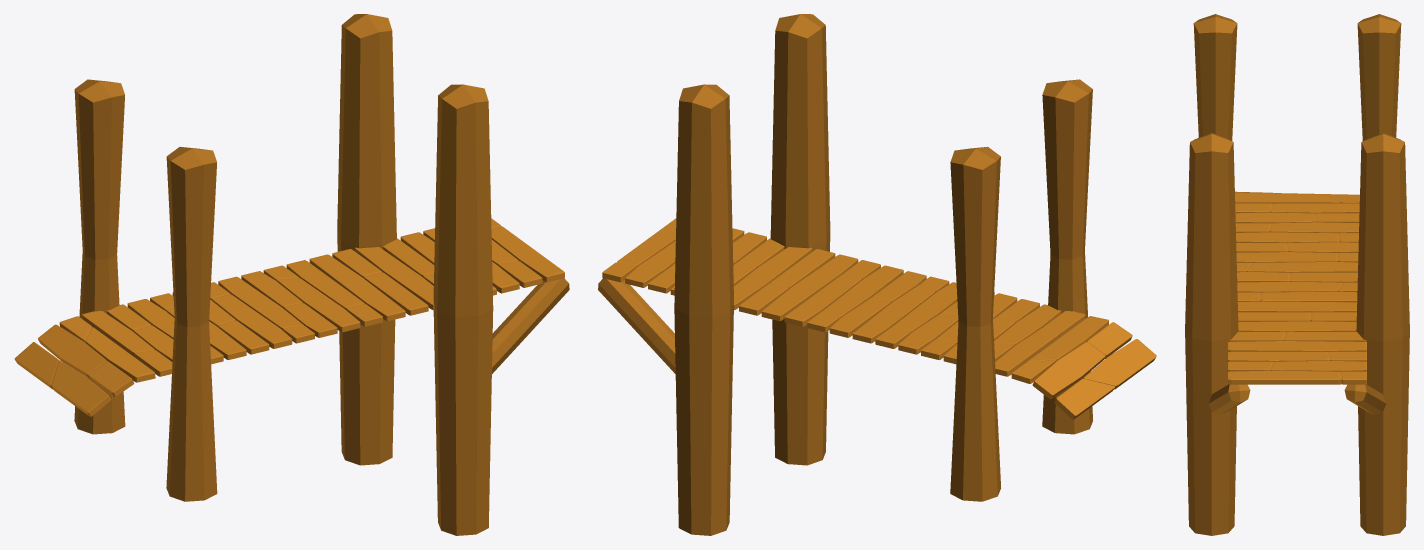
The model's file is Debut_Pont.fbx.
3 views of the same model, side by side, from view 1: azimuth 30°, elevation 25°; view 2: azimuth 150°, elevation 25°; view 3: azimuth 270°, elevation 25° (orthographic). The views are drawn at different scales.
Parts seen in each view (by area): view 1: Debut_Pont_LOD0; view 2: Debut_Pont_LOD0; view 3: Debut_Pont_LOD0.
Part boxes in pixels (bbox=[...]): Debut_Pont_LOD0: bbox=[14, 14, 569, 535]; Debut_Pont_LOD0: bbox=[598, 14, 1156, 535]; Debut_Pont_LOD0: bbox=[1185, 14, 1409, 535].
Size of the model in its own units: 1573 by 710 by 1367.
